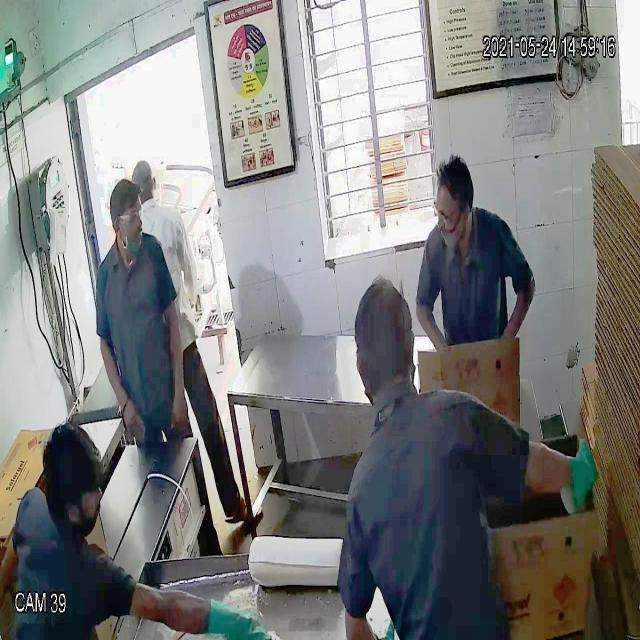glasses: (107, 206, 145, 228)
